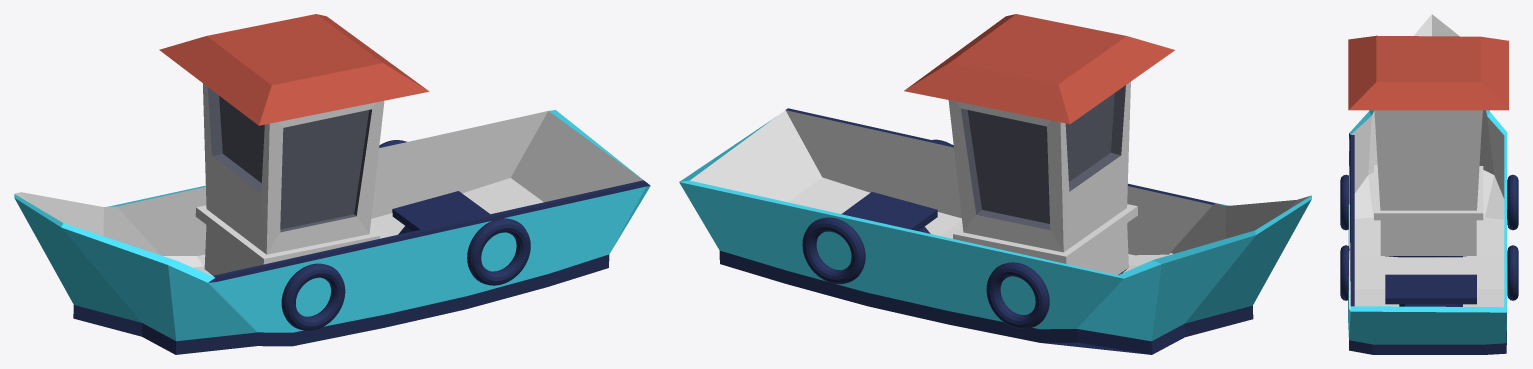
Rendered from barco.fbx.
The picture shows the model from 3 angles, left to right: view 1: azimuth 30°, elevation 25°; view 2: azimuth 150°, elevation 25°; view 3: azimuth 270°, elevation 25°; orthographic projection. The views are drawn at different scales.
Parts seen in each view (by area): view 1: Plane, Torus; view 2: Plane, Torus; view 3: Plane, Torus.
Boxes of the visible parts, bbox=[...] form: Plane: bbox=[14, 14, 650, 354]; Torus: bbox=[281, 140, 530, 330]; Plane: bbox=[679, 14, 1311, 354]; Torus: bbox=[802, 139, 1049, 328]; Plane: bbox=[1348, 14, 1508, 354]; Torus: bbox=[1340, 174, 1518, 300].
Size of the model in its own units: 797 by 330 by 267.
